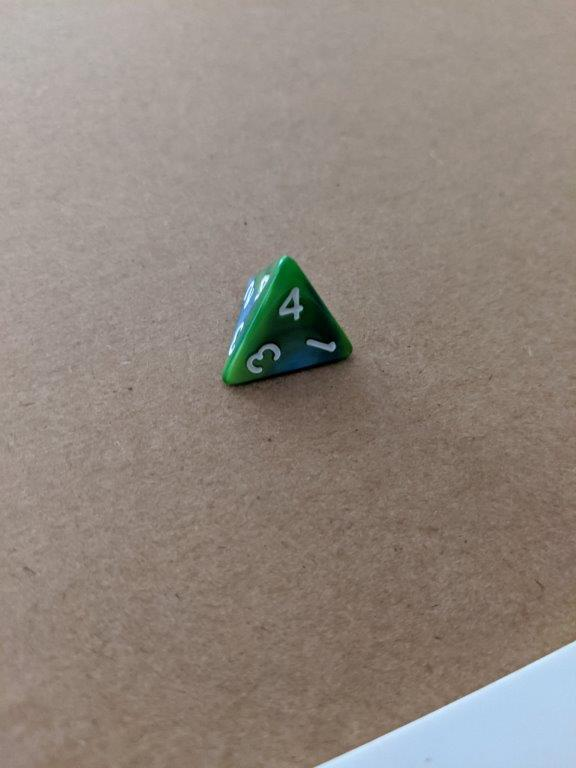d4-4: (219, 248, 356, 390)
